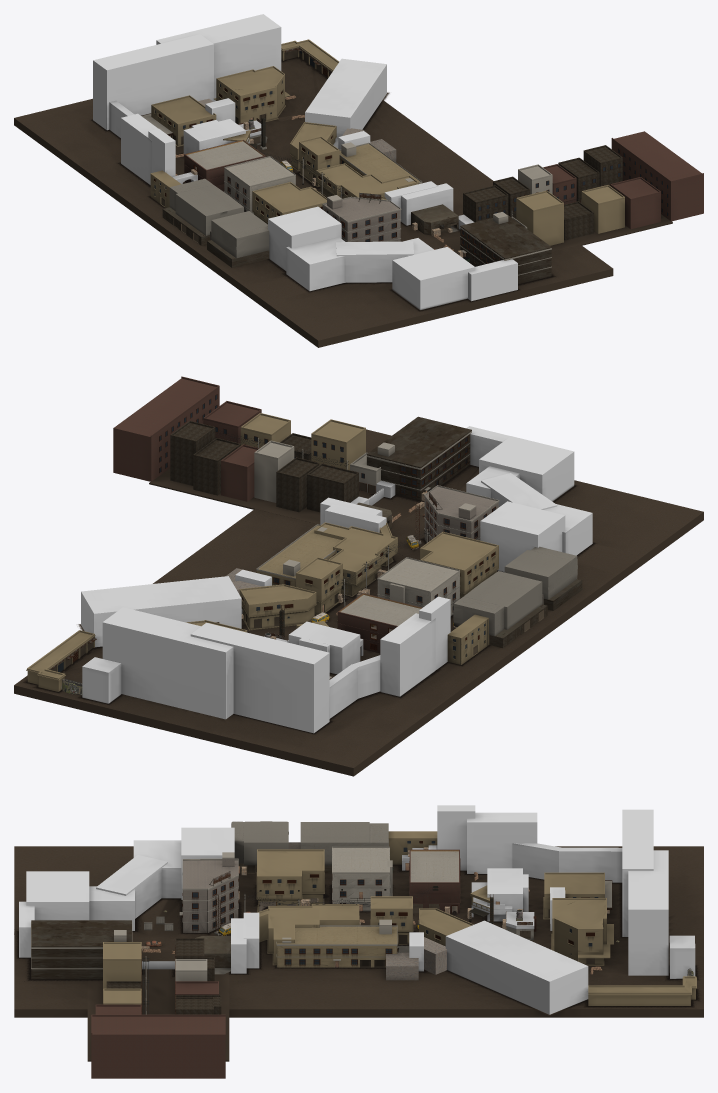
Rendered from stage_city.glb.
The picture shows the model from 3 angles, top to bottom: view 1: azimuth 30°, elevation 25°; view 2: azimuth 150°, elevation 25°; view 3: azimuth 270°, elevation 25°; orthographic projection. The views are drawn at different scales.
Parts seen in each view (by area): view 1: sand_ground, concrete_building12.001, vis_street_east_peeling_painted_wall, vis_street_east_whitewashed_brick, concrete_building33, concrete_building12, concrete_building21, concrete_building24, vis_street_east_plaster_alley, concrete_building9, concrete_building2, concrete_building8.001 (+28 smaller); view 2: sand_ground, concrete_building12, vis_street_east_peeling_painted_wall, concrete_building12.001, vis_street_east_whitewashed_brick, concrete_building33, concrete_building24, concrete_building2, concrete_building21, concrete_building13, concrete_roof1, vis_street_east_plaster_alley (+27 smaller); view 3: sand_ground, vis_street_east_peeling_painted_wall, concrete_building33, concrete_building24, concrete_building12, concrete_building17, concrete_building3, vis_decal_merged_nouv, concrete_building13, concrete_building31, concrete_building9, concrete_building21 (+36 smaller).
Part boxes in pixels (x1,y1,x2,y2): sand_ground: (14,58,613,347); concrete_building12.001: (93,34,213,130); vis_street_east_peeling_painted_wall: (543,131,703,229); vis_street_east_whitewashed_brick: (463,145,622,240); concrete_building33: (305,58,386,138); concrete_building12: (156,14,281,101); concrete_building21: (392,247,475,309); concrete_building24: (460,214,551,284); vis_street_east_plaster_alley: (516,185,624,245); concrete_building9: (216,66,285,123); concrete_building2: (268,206,341,270); concrete_building8.001: (336,241,413,282); sand_ground: (14,429,703,776); concrete_building12: (102,607,233,719); vis_street_east_peeling_painted_wall: (113,376,261,501); concrete_building12.001: (190,622,329,733); vis_street_east_whitewashed_brick: (170,421,358,512); concrete_building33: (81,576,241,647); concrete_building24: (367,416,471,500); concrete_building2: (480,501,565,571); concrete_building21: (479,436,574,501); concrete_building13: (380,613,435,696); concrete_roof1: (453,571,542,636); vis_street_east_plaster_alley: (240,413,365,470); sand_ground: (14,846,703,1017); vis_street_east_peeling_painted_wall: (91,981,225,1078); concrete_building33: (445,920,588,1014); concrete_building24: (31,920,131,979); concrete_building12: (628,850,668,975); concrete_building17: (277,926,397,967); concrete_building3: (256,849,324,912); vis_decal_merged_nouv: (14,864,699,1016); concrete_building13: (467,812,537,873); concrete_building31: (183,860,238,932); concrete_building9: (551,898,606,965); concrete_building21: (26,871,89,920).
Bounding box in the file's own units: 153 × 38.93 × 192.
Materials: 54 (51 with a texture image).
